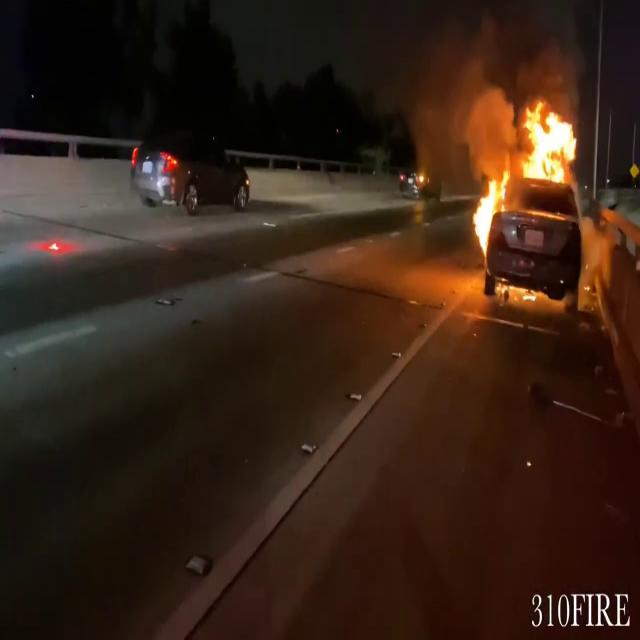Fire: (516, 100, 582, 191), (466, 168, 508, 255)
Smoke: (370, 0, 582, 150)
